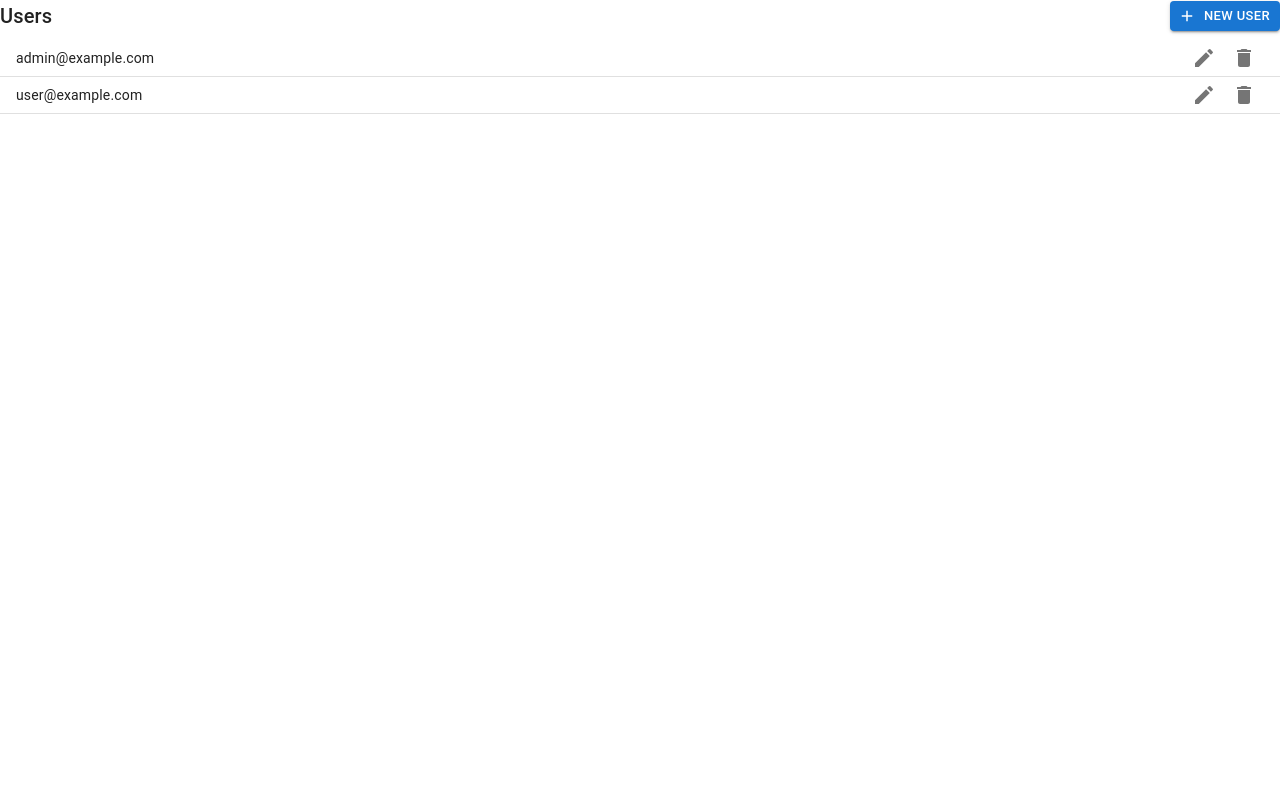
Test case: RecordSection › keeps the confirmation open with the error when the delete fails
Click the button named "Delete" in the row of "user@example.com".
click(1244, 95)  # box [1224,75,1264,115]
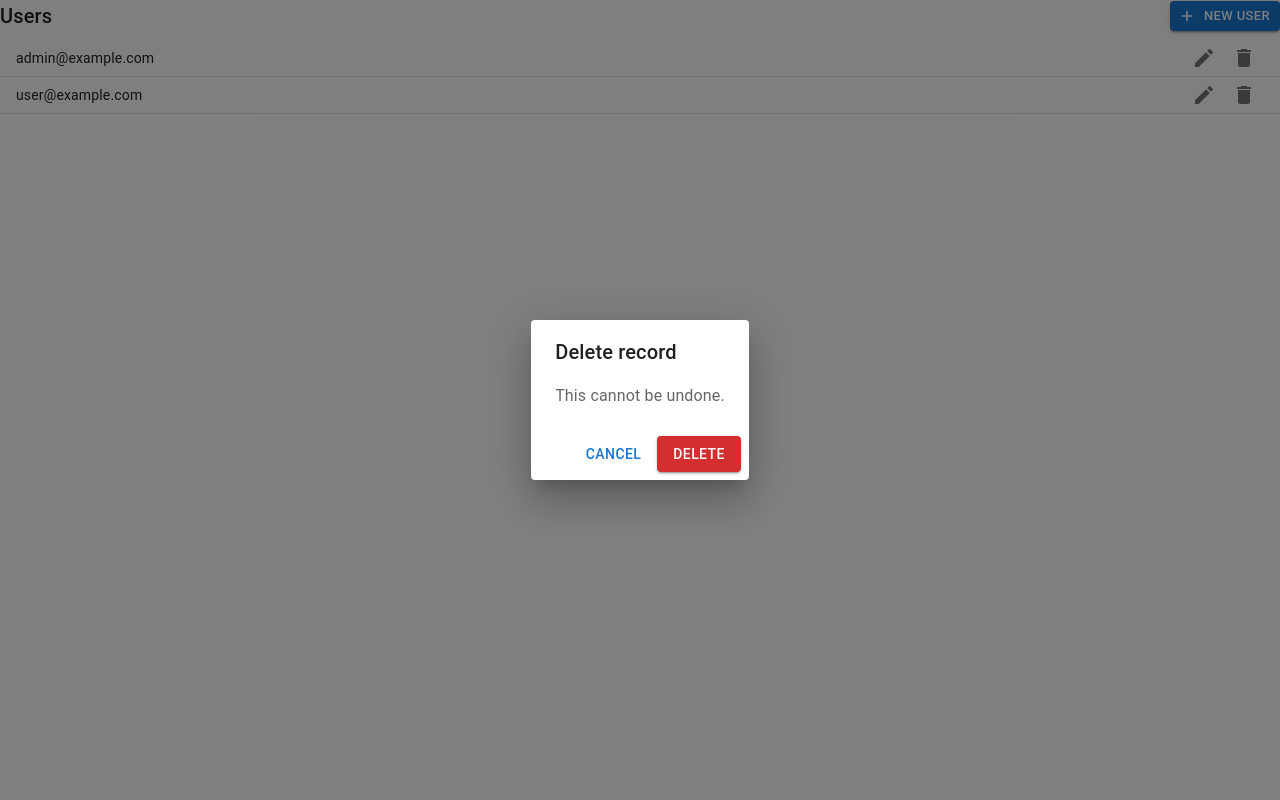
Click the button "Delete".
click(699, 454)  # box [657,436,741,472]
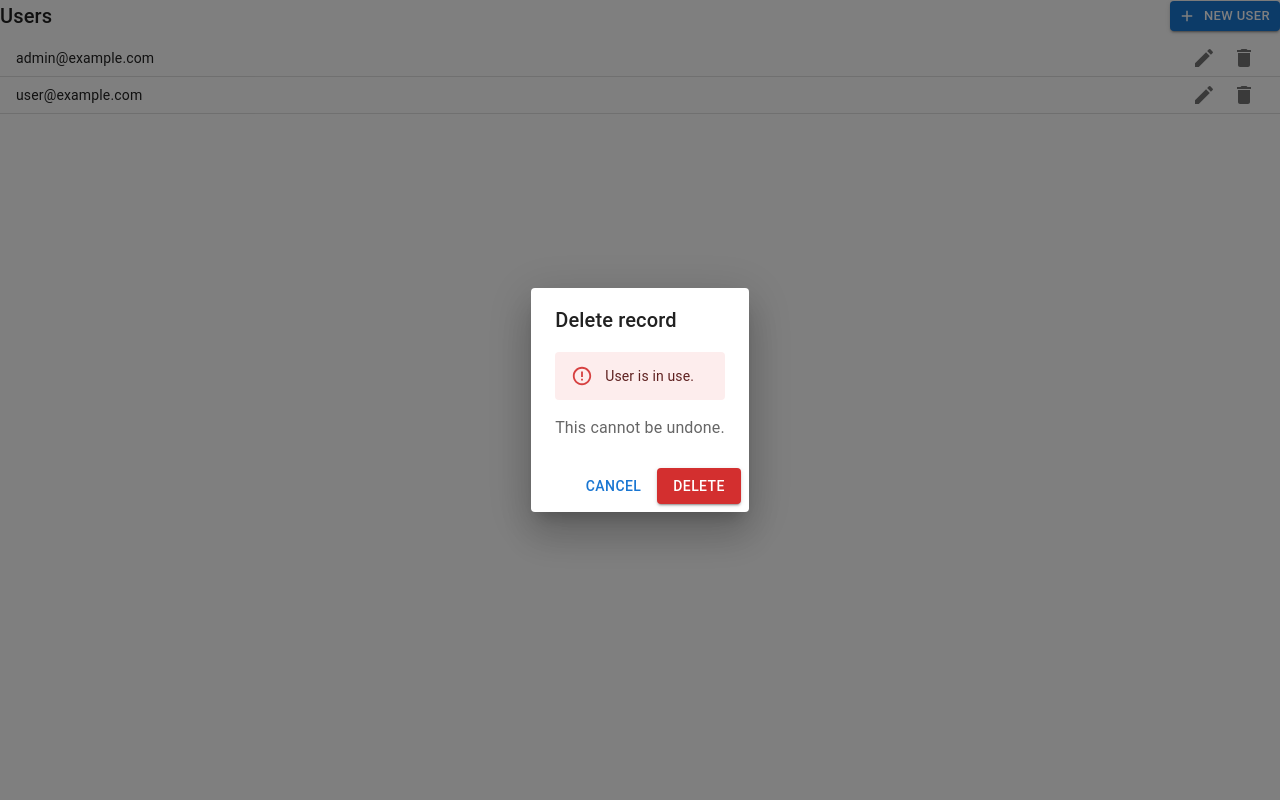
Check: the dialog is shown, box [531,288,749,512]
Check: the button "Delete" is enabled, box [657,468,741,504]
Check: the message reads "User is in use.", box [605,368,694,384]
